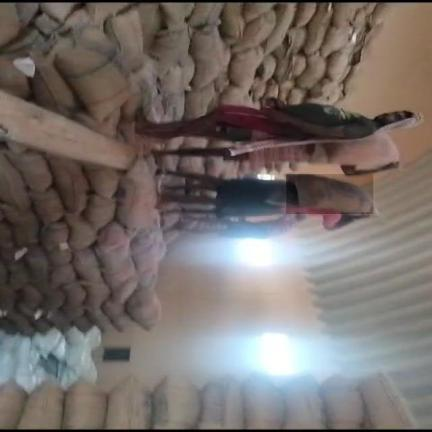Zone-Counting: (162, 171, 373, 230)
